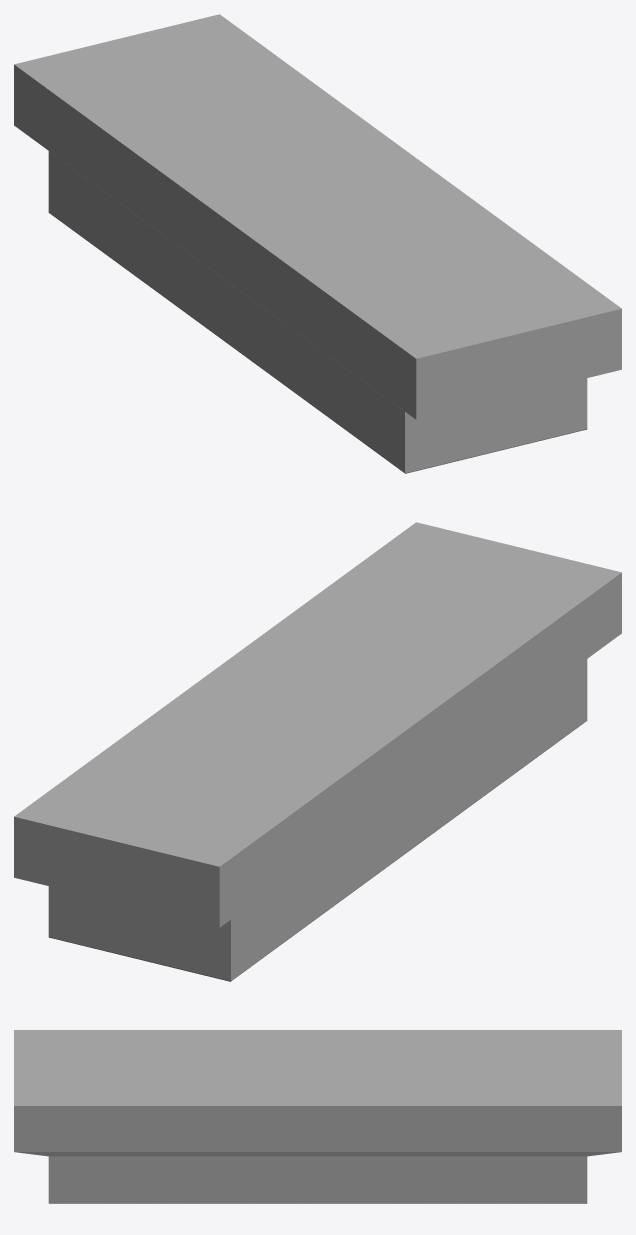
The model's file is Entrance_Light.fbx.
3 views of the same model, one above another, from view 1: azimuth 30°, elevation 25°; view 2: azimuth 150°, elevation 25°; view 3: azimuth 270°, elevation 25° (orthographic). The views are drawn at different scales.
Parts seen in each view (by area): view 1: Entrance_Light.011; view 2: Entrance_Light.011; view 3: Entrance_Light.011.
Part boxes in pixels (x1=…): Entrance_Light.011: x1=14, y1=14, x2=621, y2=473; Entrance_Light.011: x1=14, y1=522, x2=621, y2=981; Entrance_Light.011: x1=14, y1=1030, x2=621, y2=1203.
Bounding box in the file's own units: 27.55 × 21.93 × 93.3.
2 materials, 2 textured.
